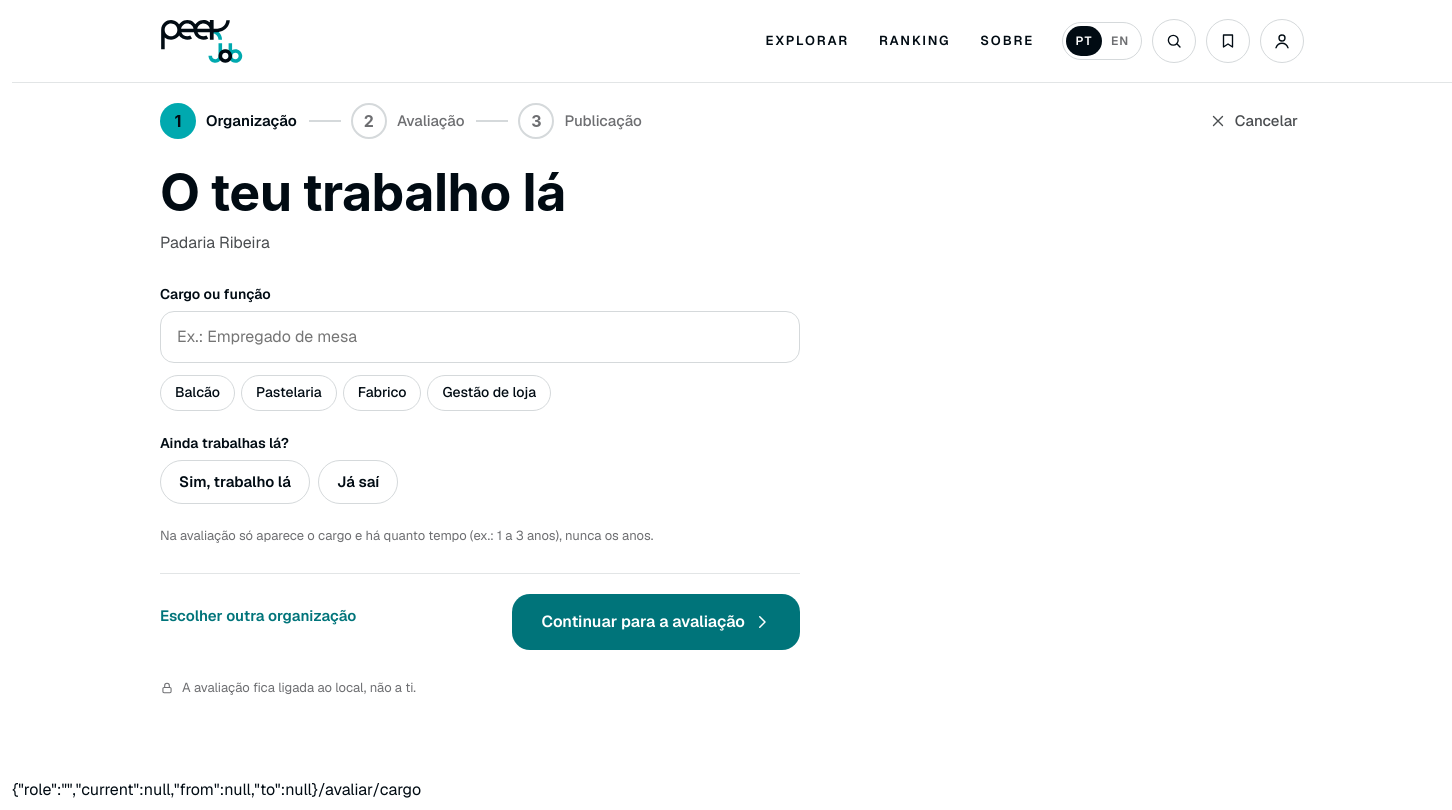
Test case: Avaliar · o teu trabalho lá (desktop) › "ainda trabalho lá" só pede o ano de entrada e tira o de saída
Type "Balcão" into the dropdown labelled "Cargo ou função" at (480, 337), box [160,311,800,363]
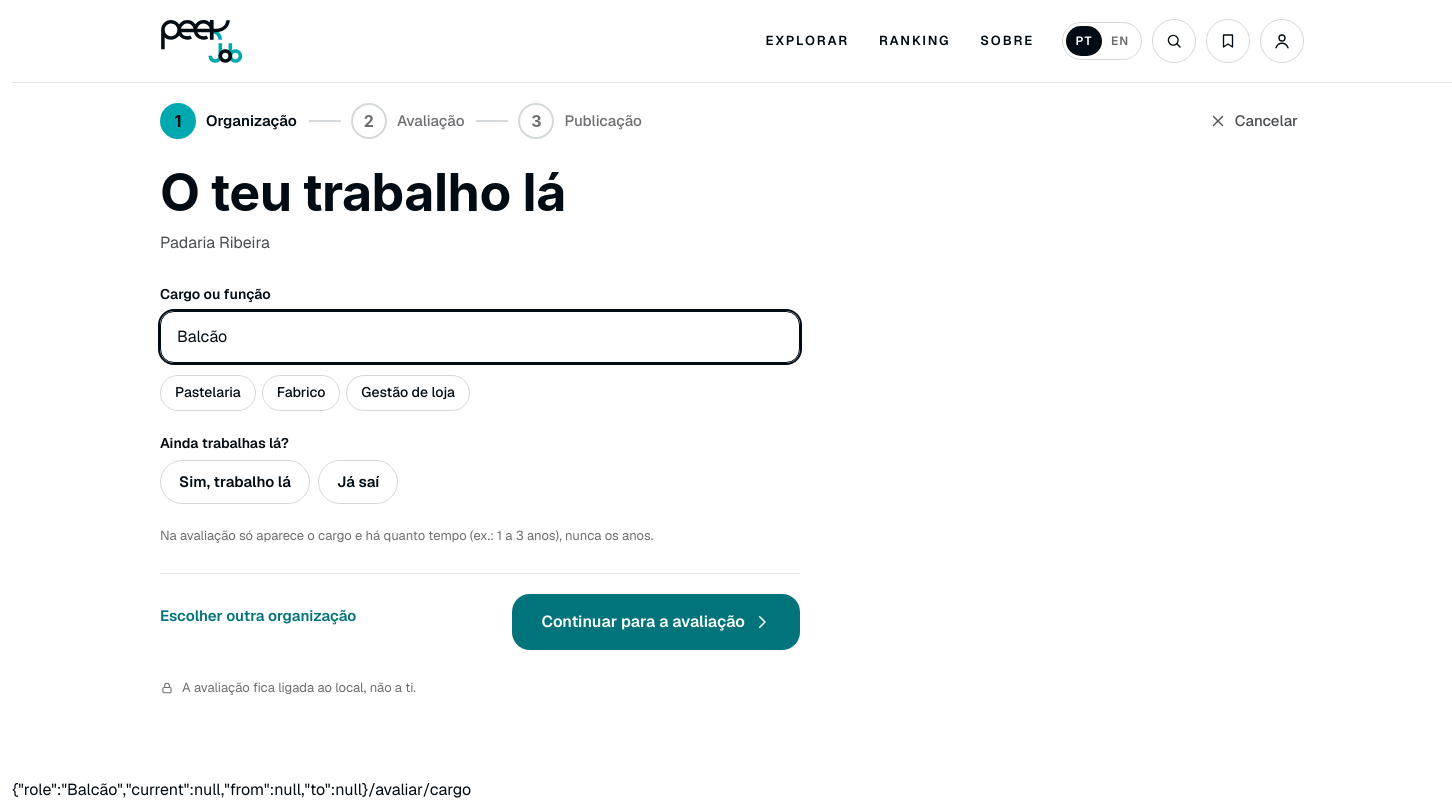
Click the button "Já saí" at (358, 482), box [318,460,398,504]
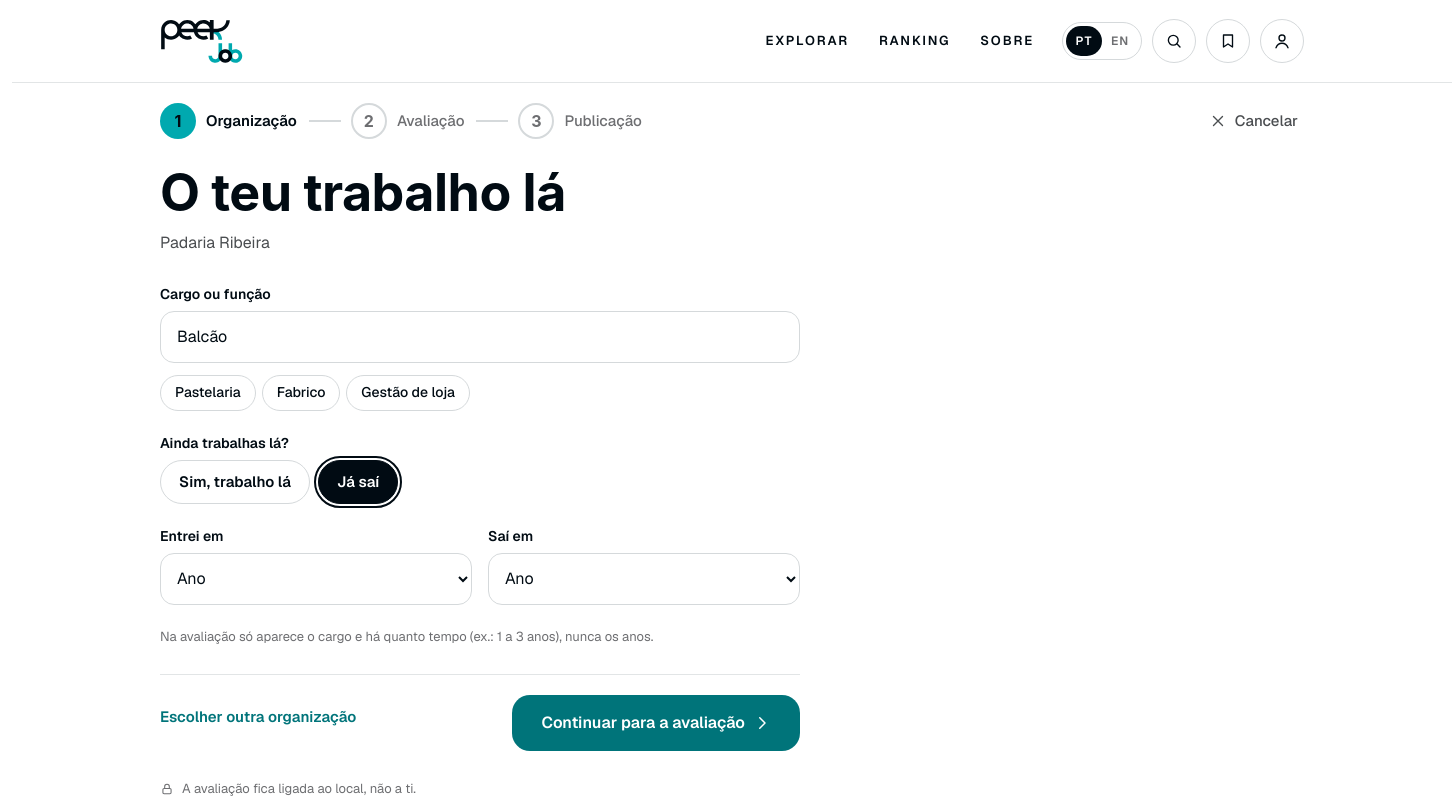
Select "2020" in the dropdown labelled "Entrei em" at (316, 579), box [160,553,472,605]
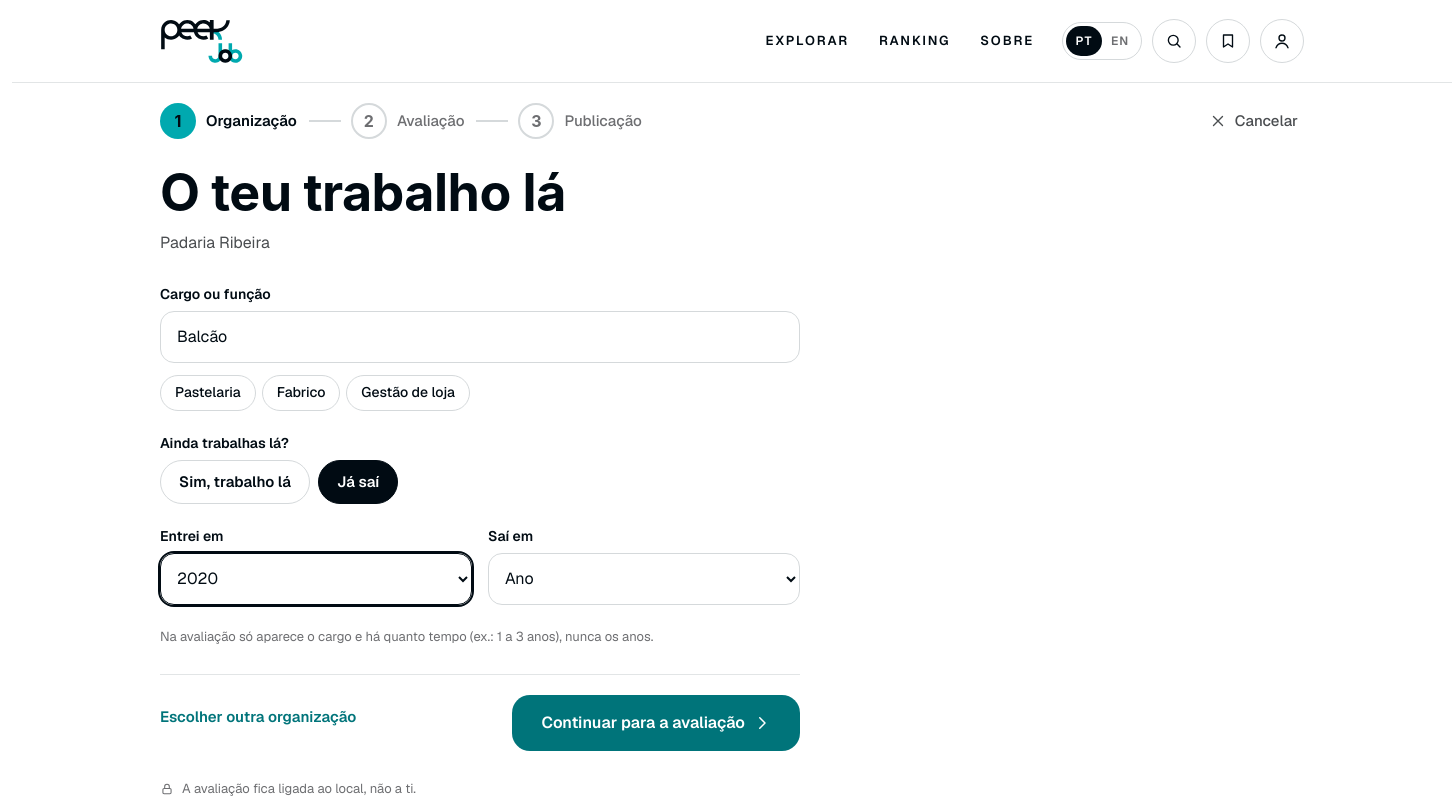
Select "2022" in the dropdown labelled "Saí em" at (644, 579), box [488,553,800,605]
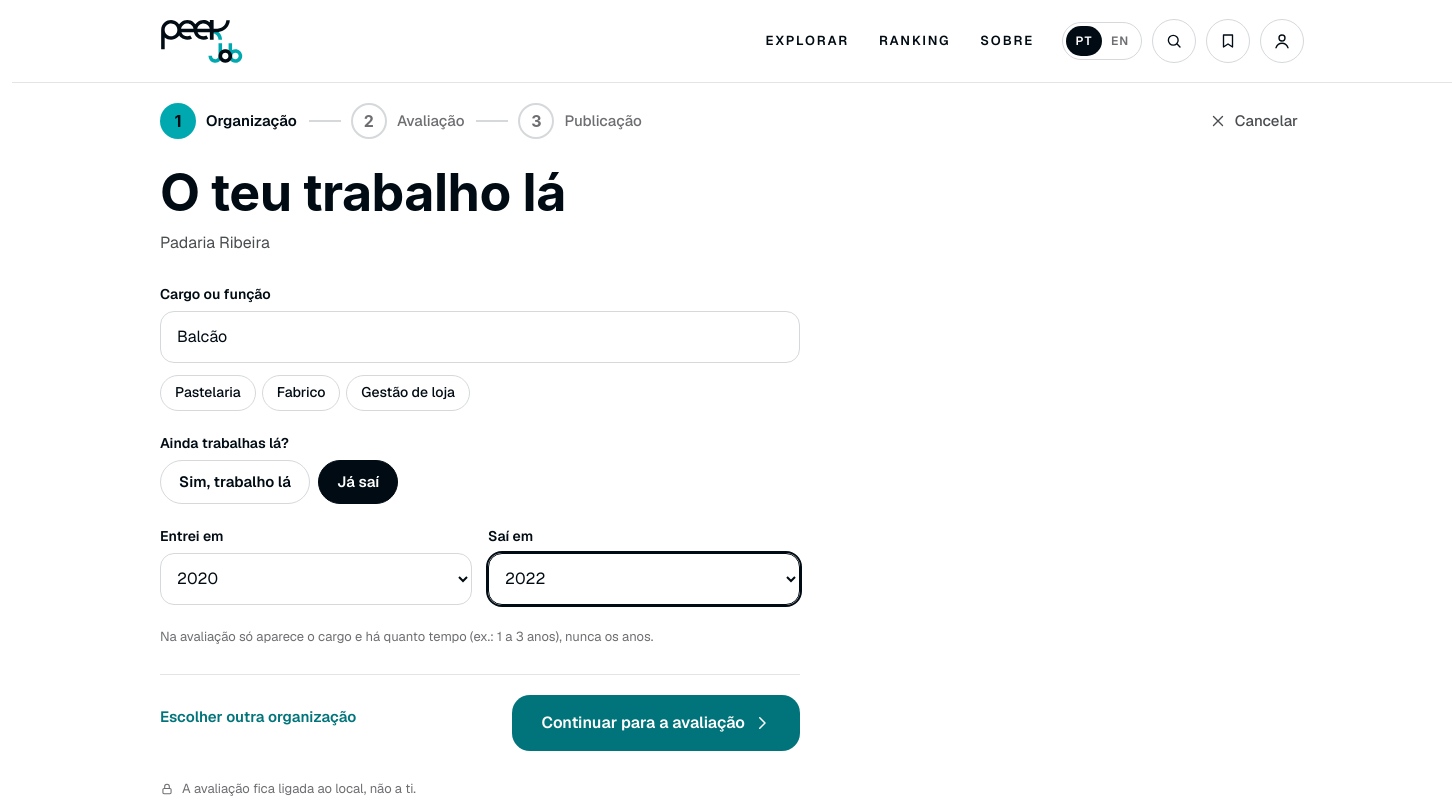
Click the button "Sim, trabalho lá" at (235, 482), box [160,460,310,504]
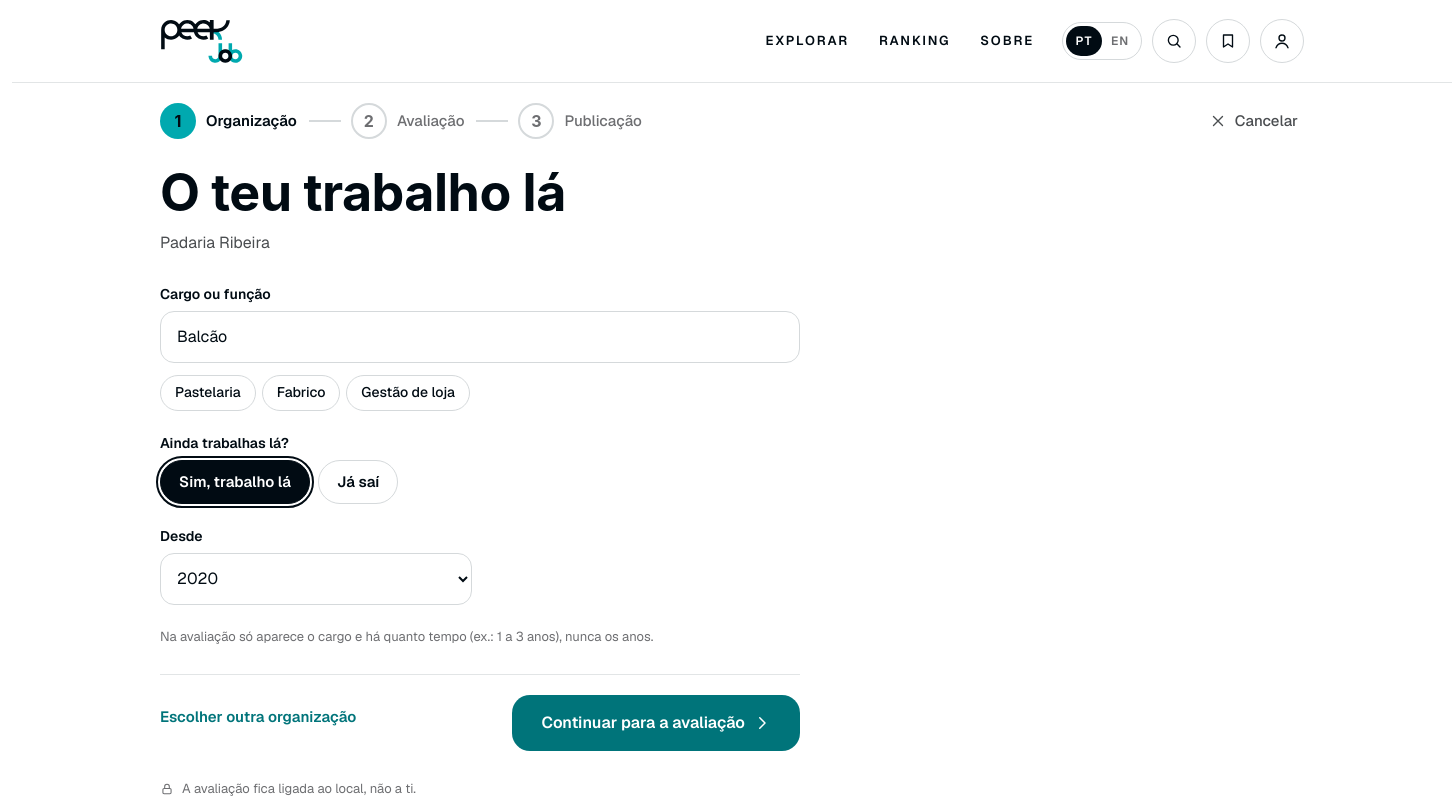
Expected: the label "Saí em" is gone
